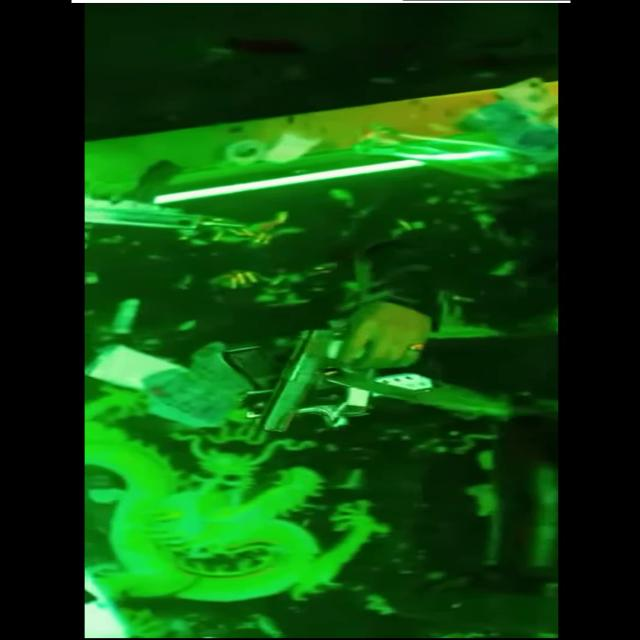weapons: (243, 314, 431, 436)
